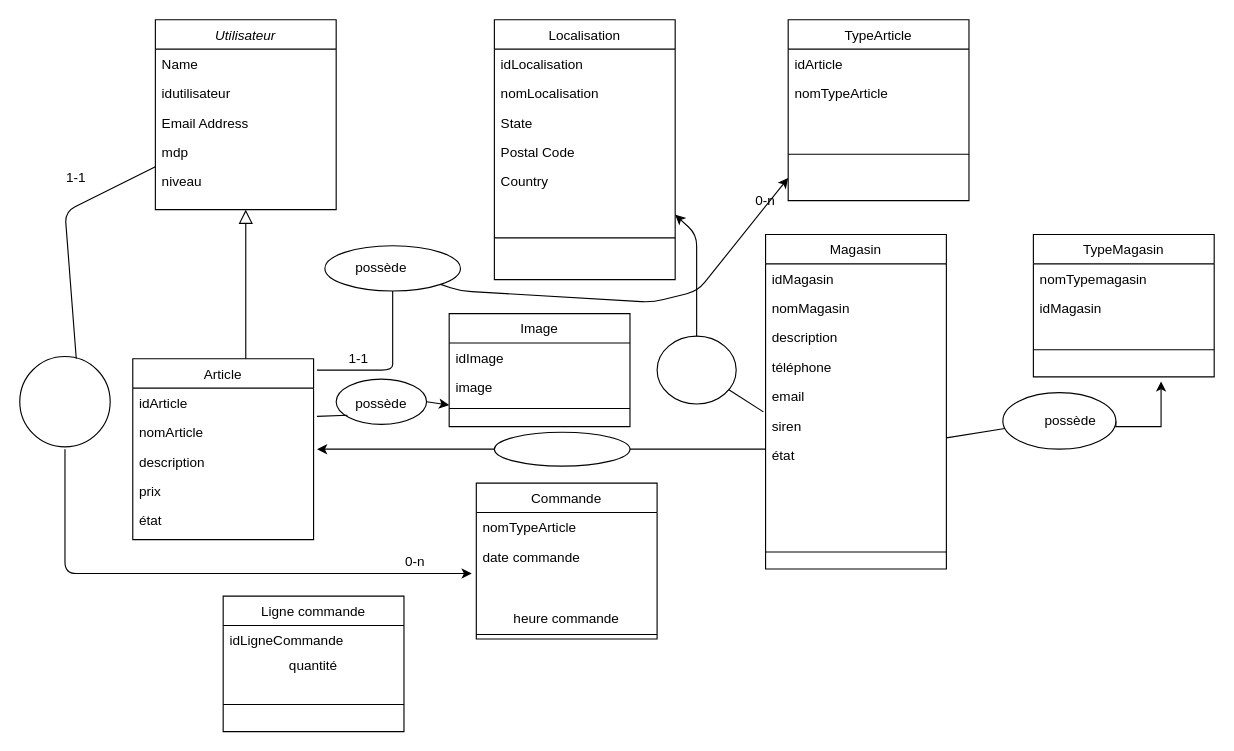
The diagram is 1234 pixels wide and 751 high, and some of its shapes have lost their labels. Each missing label, with the centre of its shape:
passer: the point at 64,401
Se situe: the point at 696,369
vend n-1: the point at 561,448
